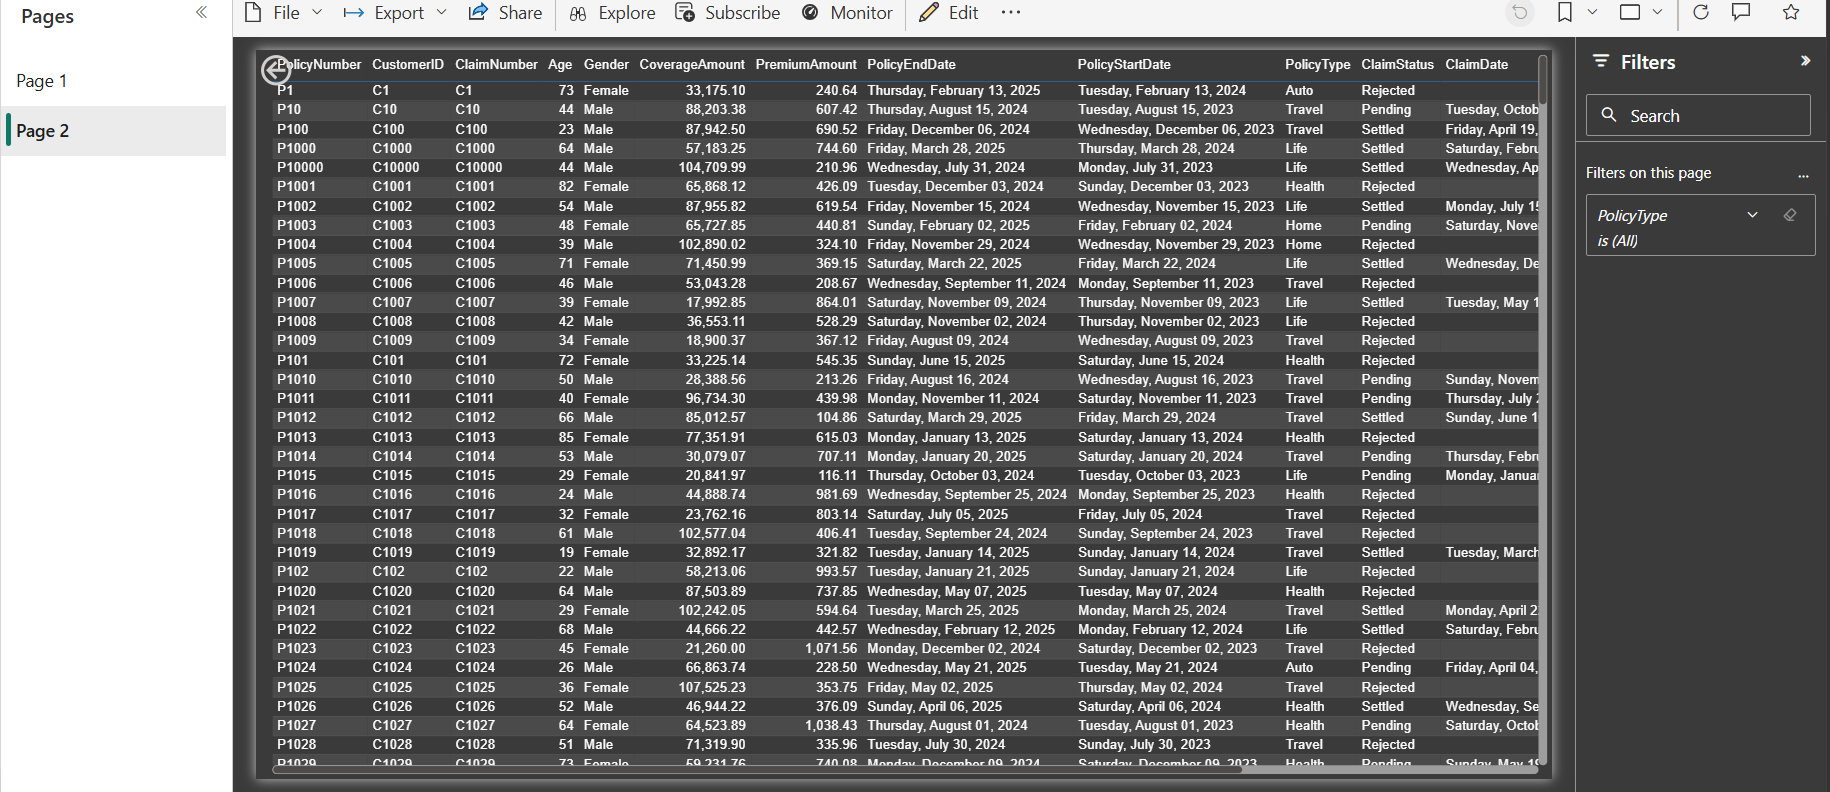

Layout of this report page (visuals, bound fields, positions):
{"tool":"powerbi","page":{"name":"Page 2","canvas":[1280,720],"ordinal":1},"visuals":[{"type":"tableEx","fields":{"Values":["InsuranceData.PolicyNumber","InsuranceData.CustomerID","InsuranceData.ClaimNumber","InsuranceData.Age","InsuranceData.Gender","InsuranceData.CoverageAmount","InsuranceData.PremiumAmount","InsuranceData.PolicyEndDate","InsuranceData.PolicyStartDate","InsuranceData.PolicyType","InsuranceData.ClaimStatus","InsuranceData.ClaimDate"]},"box":[9.6,0,1270.7,720.4],"z":0},{"type":"actionButton","box":[0,0,100,40],"z":1000}]}

Visuals, with their boxes on the page's 1280x720 design canvas (x1, y1, x2, y2). These are canvas units, not pixel positions in the 1830x792 screenshot, which may show the page scaled, cropped or inside an application window:
tableEx - InsuranceData.PolicyNumber x InsuranceData.CustomerID: <bbox>10, 0, 1280, 720</bbox>
actionButton: <bbox>0, 0, 100, 40</bbox>
